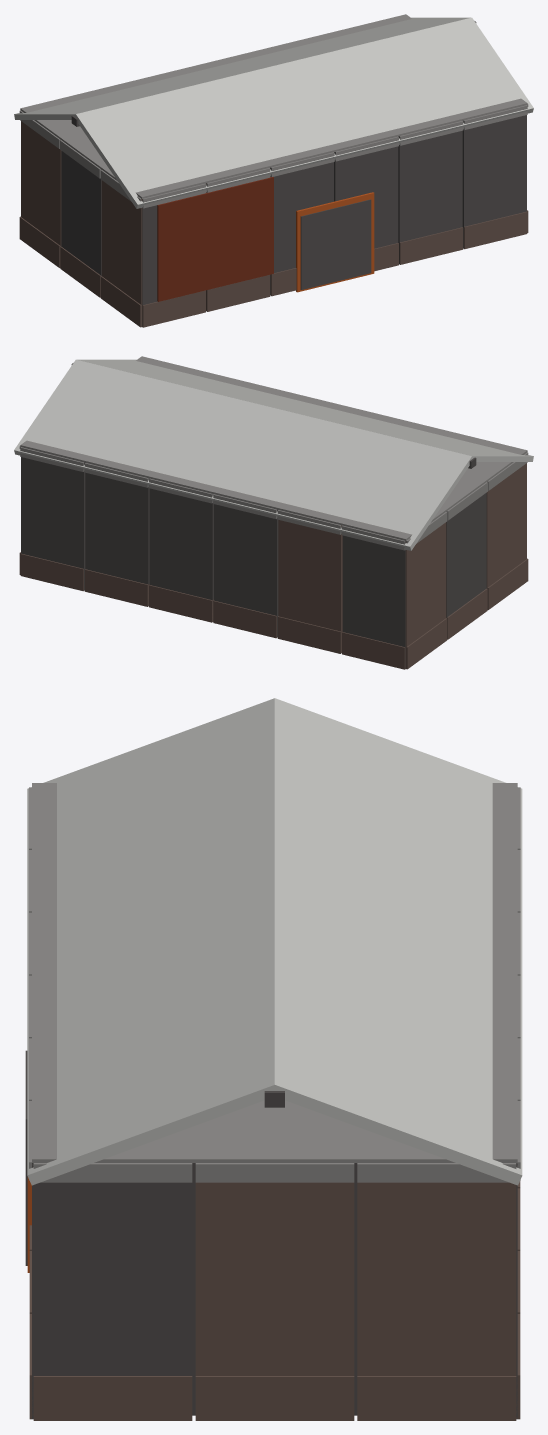
Rendered from B_hall_c.glb.
3 renders of one model, top to bottom at view 1: azimuth 30°, elevation 25°; view 2: azimuth 150°, elevation 25°; view 3: azimuth 270°, elevation 25°, orthographic. The views are drawn at different scales.
Parts seen in each view (by area): view 1: Cube.059, Cube.054, Cube.056, Cube.012, Cube.015, Cube.060, Cube.058, Cube.036, Cube.009, Cube.039, Cube.042, Cube.006 (+19 smaller); view 2: Cube.060, Cube.056, Cube.021, Cube.033, Cube.024, Cube.030, Cube.027, Cube.018, Cube.059, Cube.042, Cube.039, Cube.036 (+17 smaller); view 3: Cube.060, Cube.059, Cube.056, Cube.048, Cube.051, Cube.045, Cube.046, Cube.049, Cube.052, Cube.050, Cube.047, Cube.053 (+1 smaller).
Part boxes in pixels (x1,y1,x2,y2): Cube.059: [75, 17, 533, 208]; Cube.054: [157, 177, 273, 301]; Cube.056: [20, 14, 527, 198]; Cube.012: [398, 130, 462, 264]; Cube.015: [462, 115, 526, 248]; Cube.060: [14, 17, 470, 119]; Cube.058: [300, 199, 371, 289]; Cube.036: [101, 180, 142, 326]; Cube.009: [334, 146, 398, 248]; Cube.039: [61, 151, 101, 276]; Cube.042: [21, 121, 61, 245]; Cube.006: [270, 162, 333, 295]; Cube.060: [14, 359, 472, 550]; Cube.056: [20, 356, 527, 540]; Cube.021: [278, 520, 342, 653]; Cube.033: [21, 457, 85, 590]; Cube.024: [214, 504, 278, 637]; Cube.030: [85, 472, 149, 605]; Cube.027: [149, 488, 213, 618]; Cube.018: [342, 535, 405, 668]; Cube.059: [77, 359, 533, 461]; Cube.042: [405, 522, 446, 668]; Cube.039: [446, 493, 486, 618]; Cube.036: [486, 463, 526, 588]; Cube.060: [272, 698, 522, 1185]; Cube.059: [27, 698, 277, 1185]; Cube.056: [32, 783, 517, 1162]; Cube.048: [195, 1182, 354, 1375]; Cube.051: [357, 1182, 516, 1375]; Cube.045: [33, 1182, 192, 1375]; Cube.046: [33, 1376, 192, 1420]; Cube.049: [195, 1376, 354, 1420]; Cube.052: [357, 1376, 516, 1420]; Cube.050: [195, 1163, 354, 1182]; Cube.047: [33, 1163, 192, 1182]; Cube.053: [357, 1163, 516, 1182].
Size of the model in its own units: 22.8 by 9.38 by 12.28.
